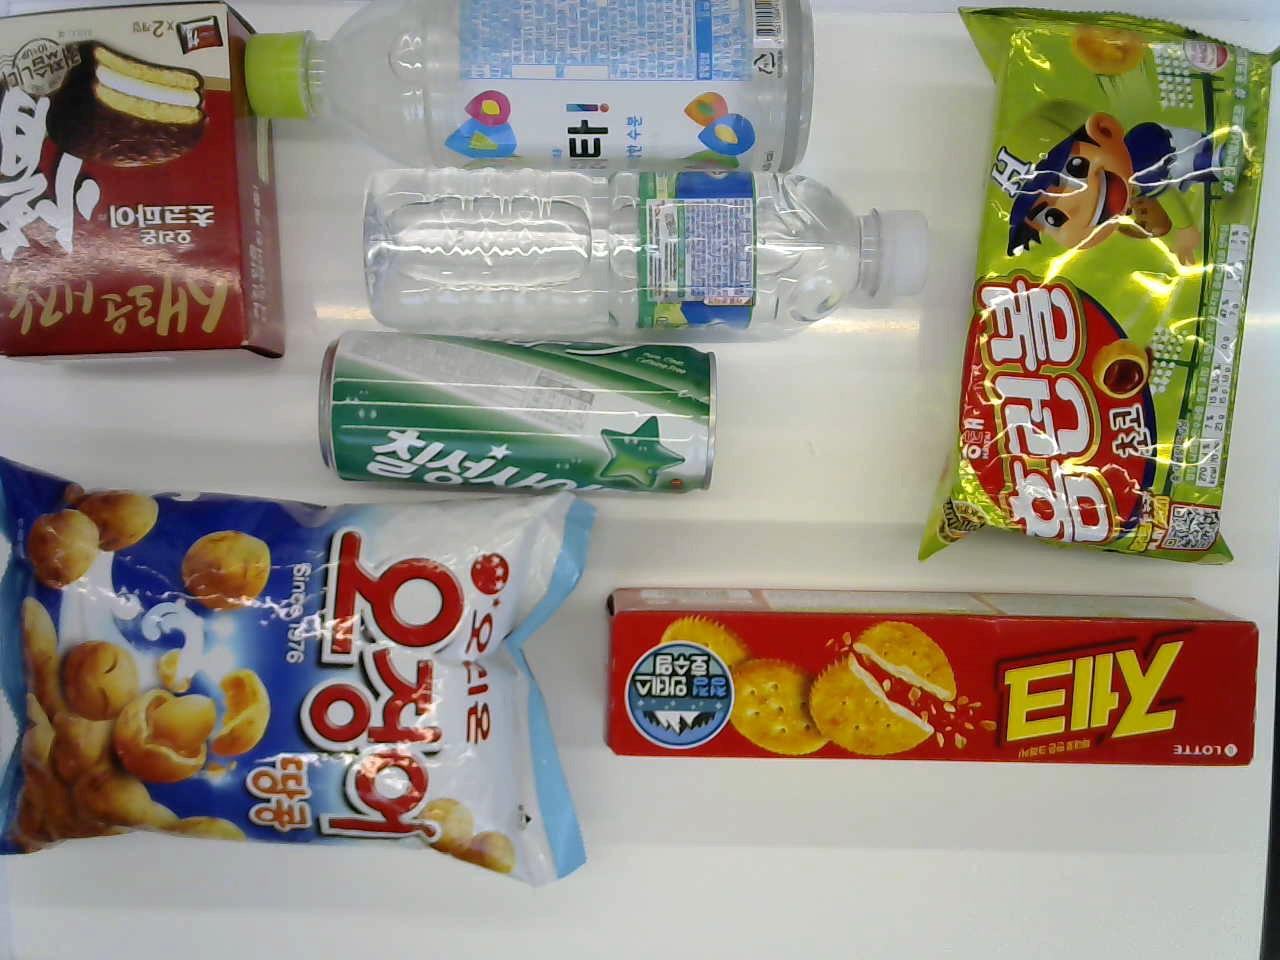chocopie: (0, 2, 295, 377)
cidar: (313, 319, 720, 499)
homerunball: (934, 11, 1275, 558)
samdasu: (361, 169, 937, 350)
squid_peanut: (0, 466, 580, 887)
toreta: (249, 0, 826, 179)
zec: (597, 588, 1254, 767)
